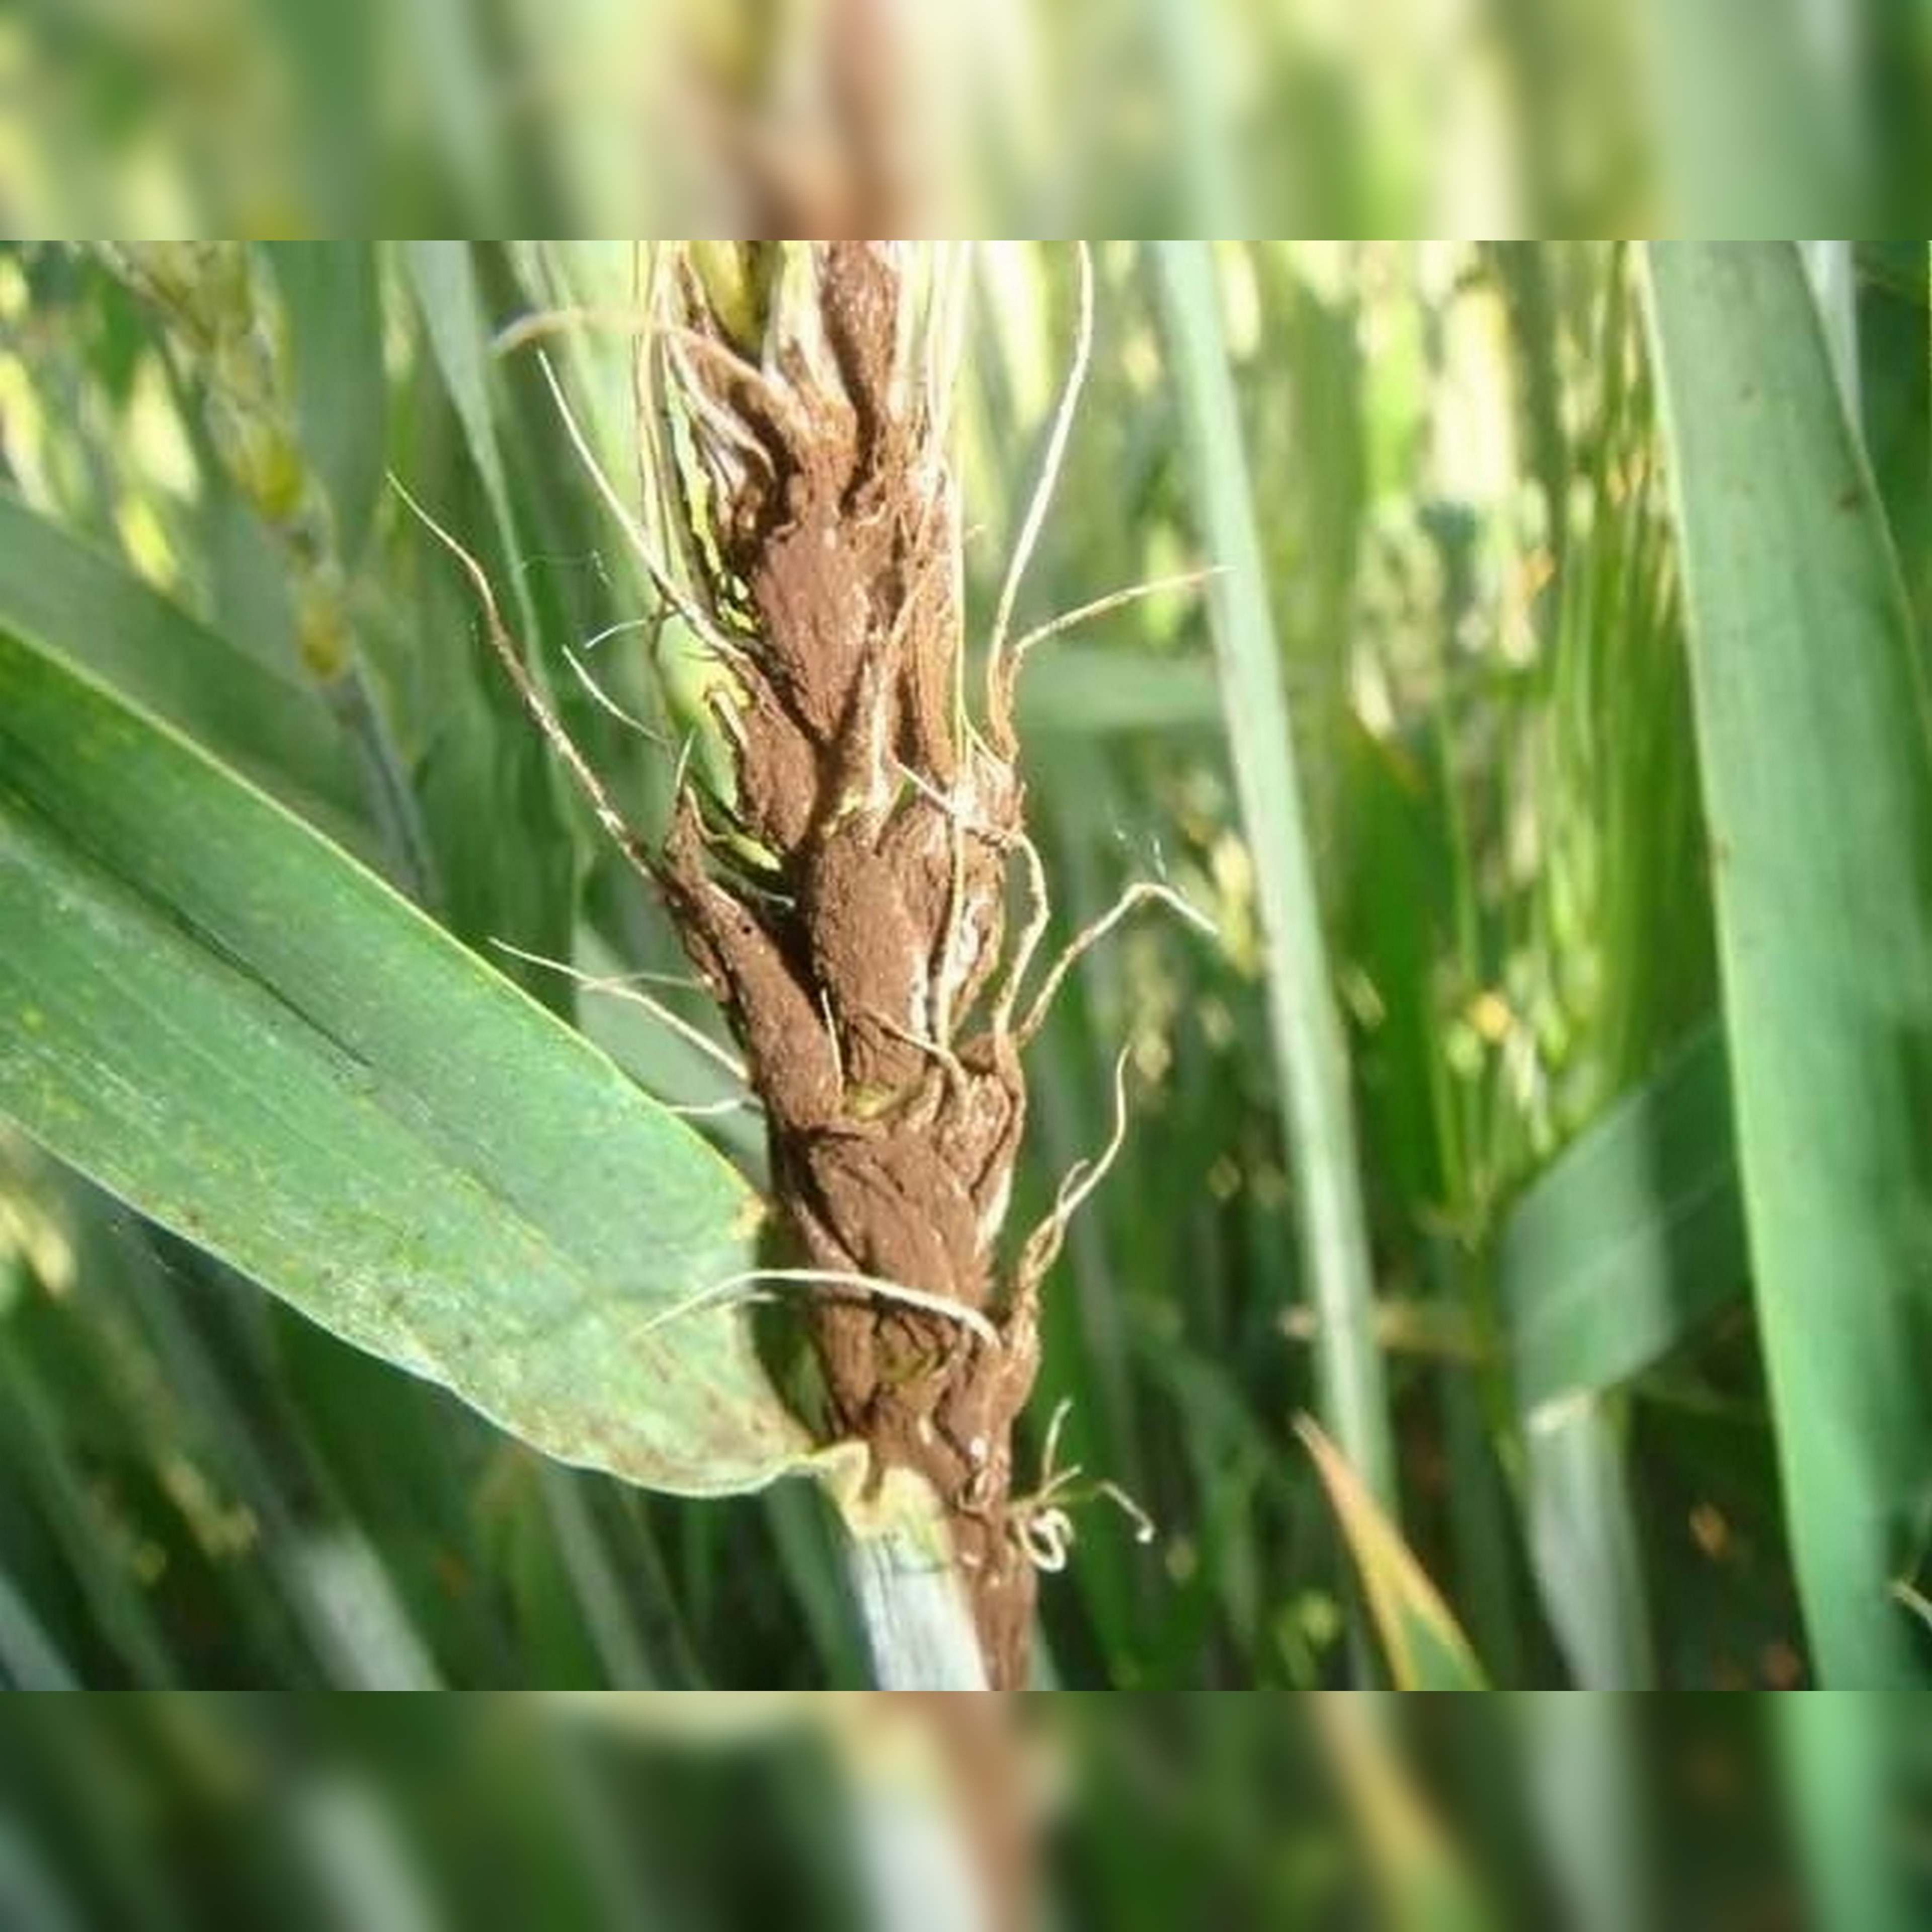Wheat Loose Smut: (639, 310, 1138, 1559)
